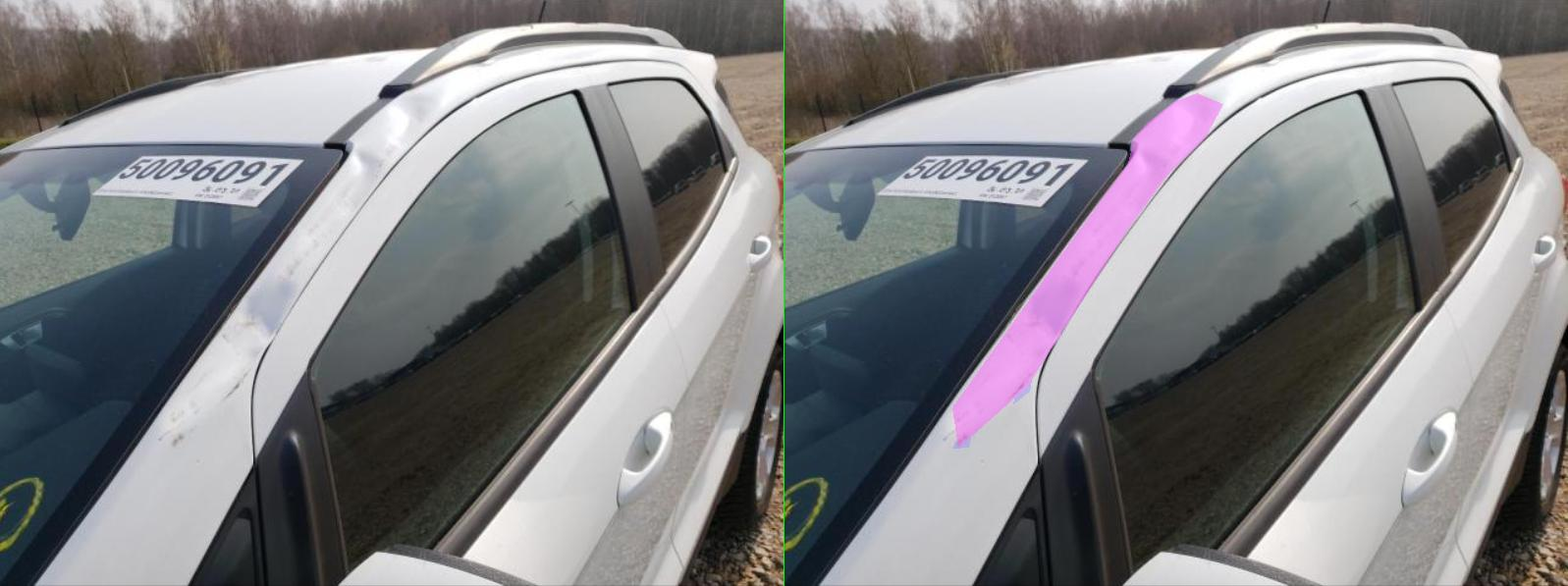Dent: (336, 93, 876, 447)
Scratch: (458, 364, 499, 403), (336, 424, 373, 448)
